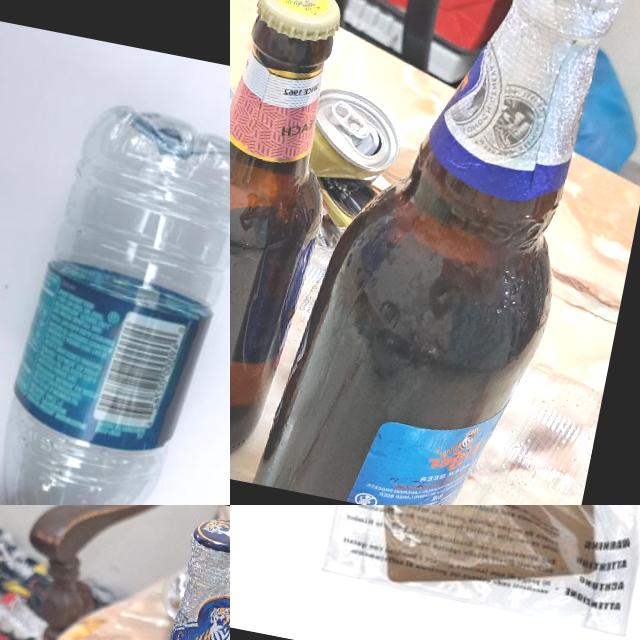garrafa de vidro: (251, 0, 633, 505), (230, 0, 353, 469), (74, 505, 230, 640)
garrafa plástica: (0, 91, 230, 505)
sacola plástica: (281, 505, 640, 640)
